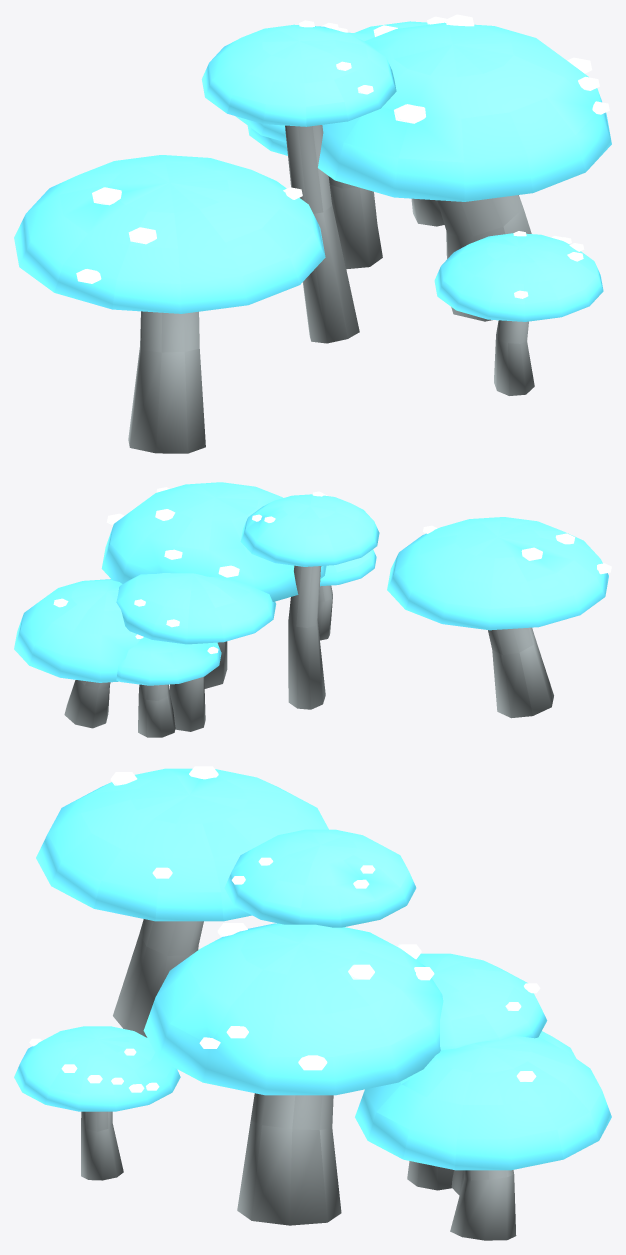
File: obj_deco_hongos_2.glb
The picture shows the model from 3 angles, top to bottom: view 1: azimuth 30°, elevation 25°; view 2: azimuth 150°, elevation 25°; view 3: azimuth 270°, elevation 25°; orthographic projection. The views are drawn at different scales.
Parts seen in each view (by area): view 1: propforge-libre-deco_hongos; view 2: propforge-libre-deco_hongos; view 3: propforge-libre-deco_hongos.
Boxes of the visible parts, <box> form: propforge-libre-deco_hongos: <box>14,14,611,453</box>; propforge-libre-deco_hongos: <box>14,482,611,737</box>; propforge-libre-deco_hongos: <box>14,766,611,1240</box>.
Bounding box in the file's own units: 0.7724 × 0.3391 × 0.6386.
